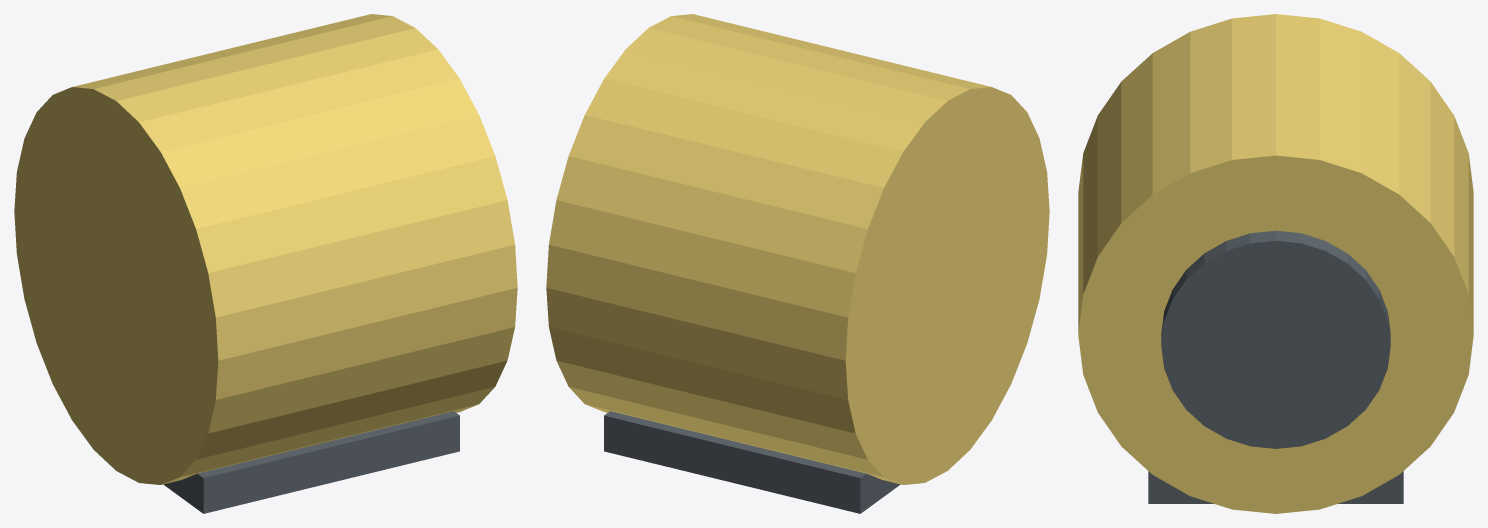
Rendered from blower_lod1.glb.
3 renders of one model, left to right at view 1: azimuth 30°, elevation 25°; view 2: azimuth 150°, elevation 25°; view 3: azimuth 270°, elevation 25°, orthographic. The views are drawn at different scales.
Visible parts, largest first — view 1: part_0, part_1; view 2: part_0, part_1; view 3: part_0, part_2, part_1.
Part boxes in pixels (<box>): part_0: <box>14,14,517,484</box>; part_1: <box>163,411,459,513</box>; part_0: <box>546,14,1049,484</box>; part_1: <box>604,411,900,513</box>; part_0: <box>1078,14,1473,513</box>; part_2: <box>1161,230,1390,448</box>; part_1: <box>1148,471,1403,503</box>.
Bounding box in the file's own units: 1.12 × 1.24 × 1.24.
